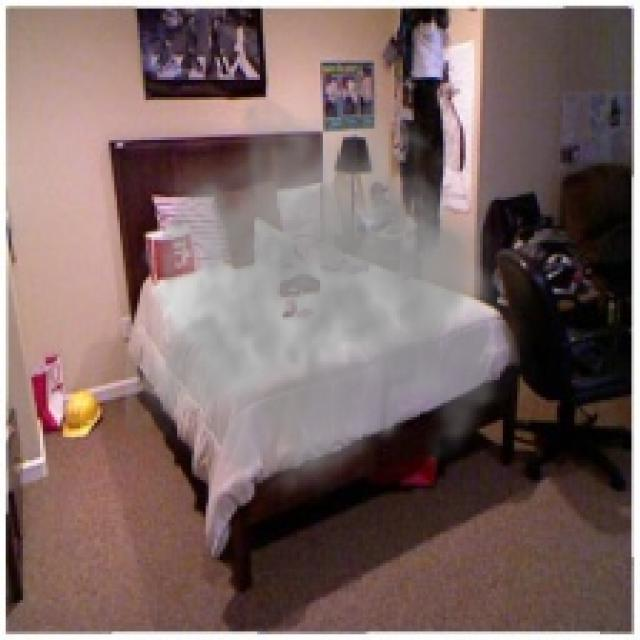smoke: (126, 88, 540, 506)
